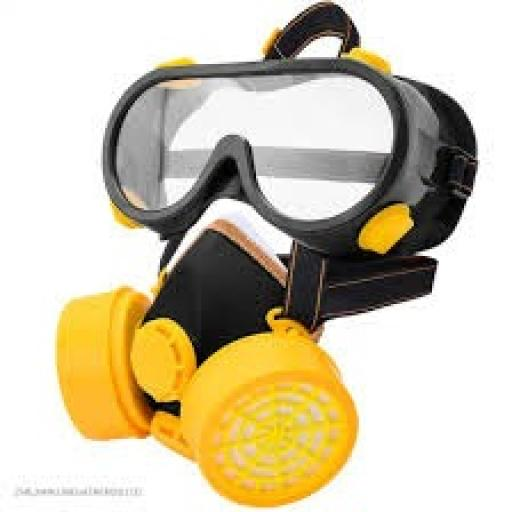mask: (34, 224, 424, 512)
